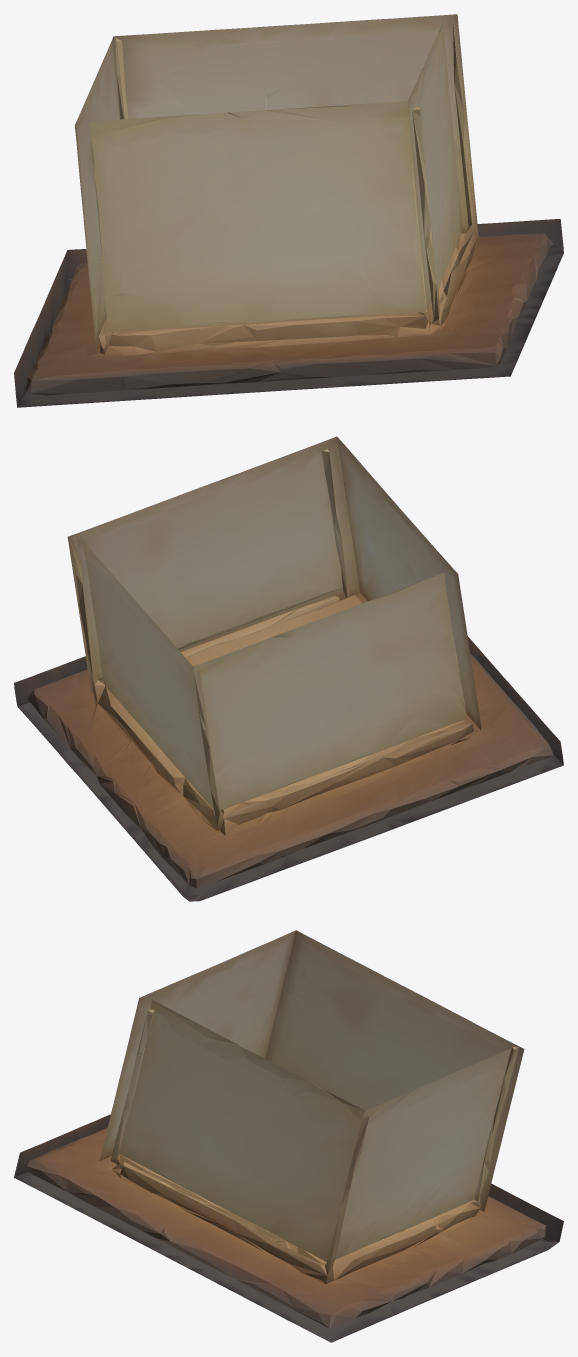
Rendered from original_mesh.glb.
3 renders of one model, top to bottom at view 1: azimuth 30°, elevation 25°; view 2: azimuth 150°, elevation 25°; view 3: azimuth 270°, elevation 25°, orthographic. The views are drawn at different scales.
Visible parts, largest first — view 1: world; view 2: world; view 3: world.
Part boxes in pixels (left/top/right/bottom): world: left=14, top=14, right=563, bottom=407; world: left=14, top=436, right=563, bottom=901; world: left=14, top=930, right=563, bottom=1342.
Bounding box in the file's own units: 0.5229 × 0.2905 × 0.5177.
